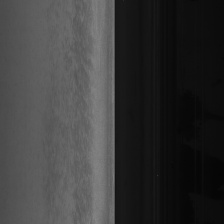silk_spot: (68, 37, 97, 163)
